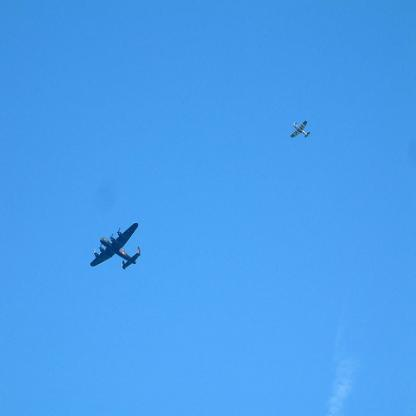aeroplane: (89, 221, 142, 268), (290, 119, 312, 138)
